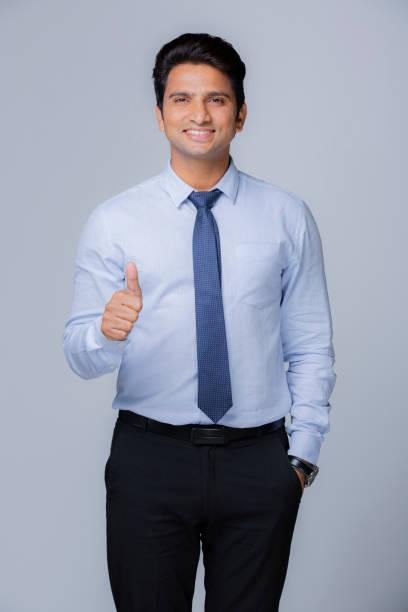Human: (76, 32, 335, 612)
